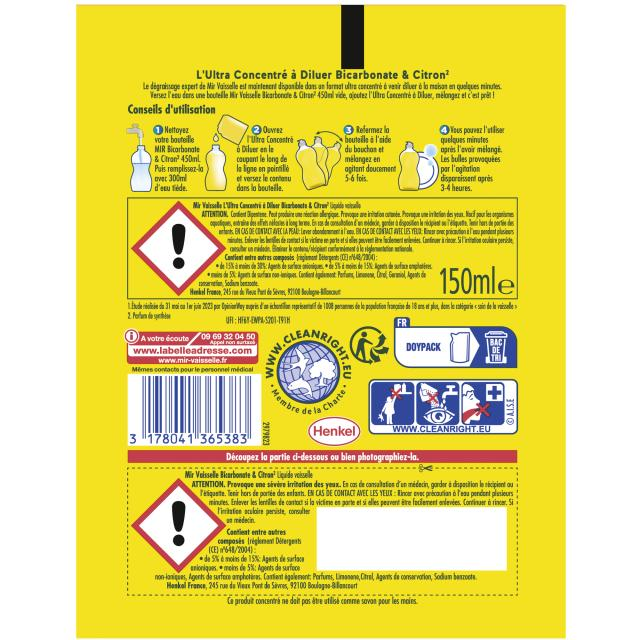GHS_Symbol_EXCLAMATION_MARK: (132, 201, 224, 297), (134, 479, 226, 573)
